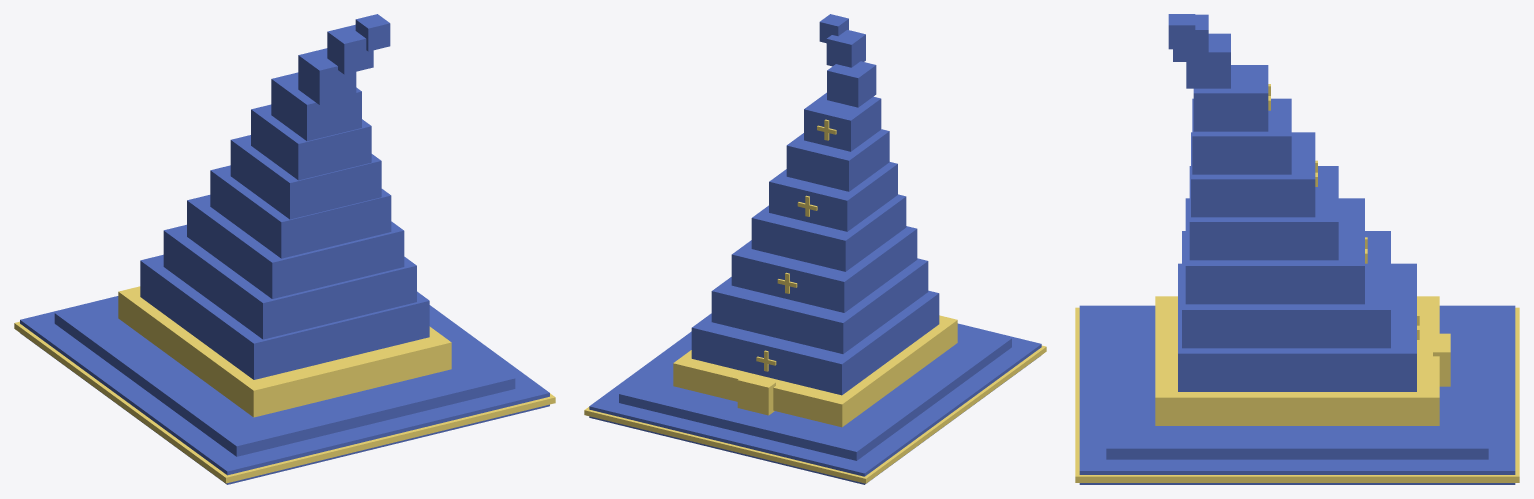
Rendered from chapeu_mago_azul.glb.
The picture shows the model from 3 angles, left to right: view 1: azimuth 30°, elevation 25°; view 2: azimuth 150°, elevation 25°; view 3: azimuth 270°, elevation 25°; orthographic projection. The views are drawn at different scales.
Parts seen in each view (by area): view 1: chapeu_mago_azul; view 2: chapeu_mago_azul; view 3: chapeu_mago_azul.
Boxes of the visible parts, x1,y1,x2,y2 form: chapeu_mago_azul: (14, 14, 555, 484); chapeu_mago_azul: (584, 14, 1046, 484); chapeu_mago_azul: (1075, 14, 1519, 484).
Bounding box in the file's own units: 0.9 × 0.9925 × 1.
